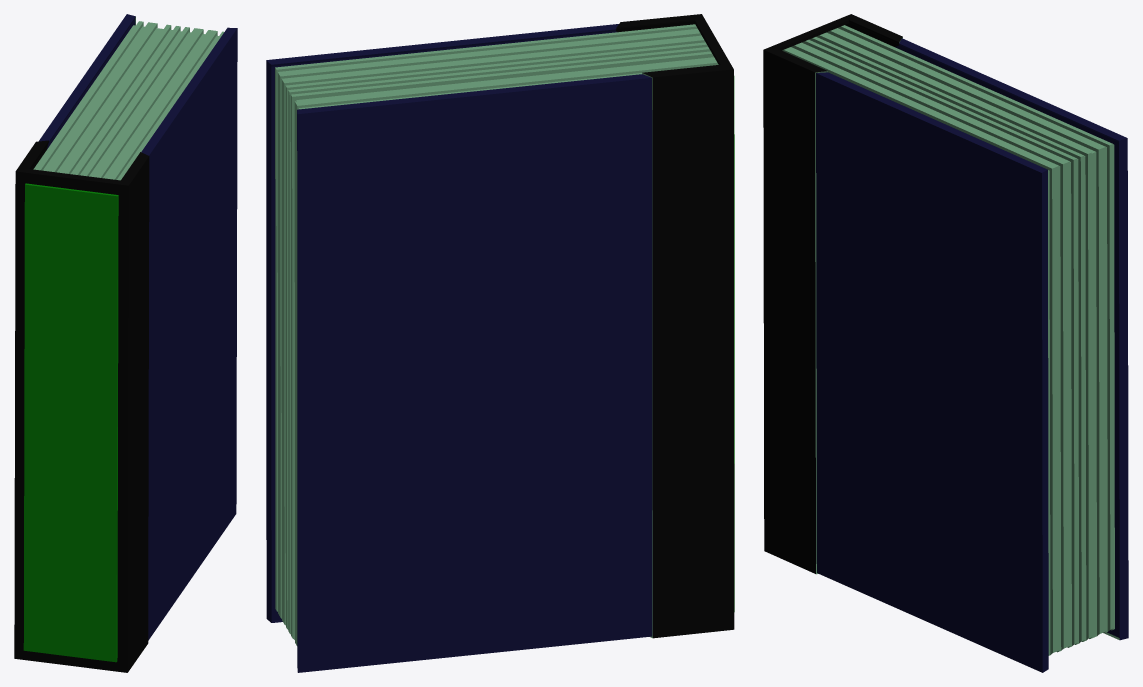
File: SecondShelfBook8.fbx
3 views of the same model, side by side, from view 1: azimuth 30°, elevation 25°; view 2: azimuth 150°, elevation 25°; view 3: azimuth 270°, elevation 25° (orthographic). The views are drawn at different scales.
Visible parts, largest first — view 1: SmallBook.006; view 2: SmallBook.006; view 3: SmallBook.006.
Part boxes in pixels (left/top/right/bottom): SmallBook.006: left=14, top=14, right=237, bottom=672; SmallBook.006: left=266, top=14, right=734, bottom=672; SmallBook.006: left=763, top=14, right=1128, bottom=672.
Size of the model in its own units: 101 by 149 by 98.19.
